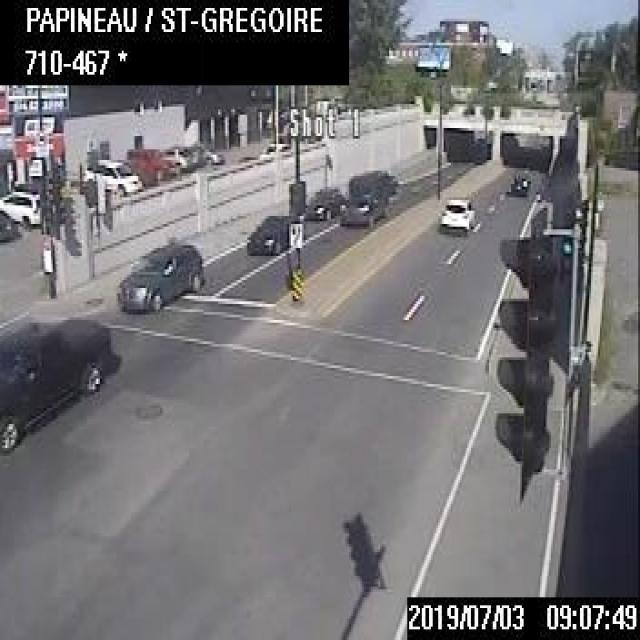vehicle: (0, 311, 116, 453), (114, 237, 202, 315), (80, 152, 142, 201), (338, 188, 391, 228), (245, 211, 288, 256), (126, 146, 178, 183), (0, 187, 42, 229), (302, 184, 343, 226), (436, 195, 474, 229), (160, 145, 192, 168), (191, 140, 222, 162), (256, 141, 288, 159), (0, 207, 16, 237), (513, 173, 529, 190)
